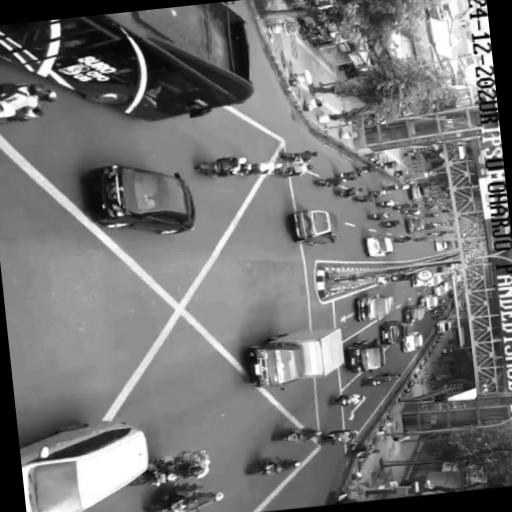bus: (0, 2, 252, 121)
car: (20, 421, 147, 511), (89, 165, 194, 234), (292, 210, 337, 245), (344, 339, 384, 373), (355, 295, 393, 321), (380, 321, 407, 345), (364, 237, 392, 257), (401, 332, 422, 352), (403, 305, 424, 323), (405, 218, 423, 234), (418, 295, 437, 309), (409, 186, 425, 200), (411, 274, 428, 287), (435, 320, 450, 333), (426, 274, 441, 286), (431, 285, 447, 296), (434, 241, 447, 252), (441, 280, 451, 291), (436, 266, 449, 274), (446, 263, 458, 270), (445, 241, 454, 250), (447, 292, 453, 299)
motorcycle: (128, 457, 177, 486), (143, 485, 197, 511), (0, 108, 41, 124), (245, 459, 282, 475), (194, 161, 221, 175), (326, 489, 349, 505), (271, 429, 301, 441), (346, 443, 368, 458), (328, 394, 350, 408), (318, 433, 343, 444), (238, 164, 259, 175), (361, 376, 383, 386), (272, 167, 293, 177), (279, 153, 299, 162), (338, 63, 353, 72), (334, 189, 348, 198), (364, 153, 377, 162), (314, 179, 328, 187), (334, 172, 346, 180), (384, 185, 399, 191), (352, 196, 365, 202), (355, 167, 368, 173), (368, 214, 381, 220), (380, 222, 392, 228), (400, 209, 411, 215), (393, 237, 404, 243), (424, 223, 434, 229), (368, 191, 380, 196), (432, 308, 442, 314), (376, 202, 387, 207), (393, 205, 402, 210), (413, 238, 423, 242), (427, 233, 437, 236)
truck: (248, 328, 343, 388), (345, 339, 384, 373)
